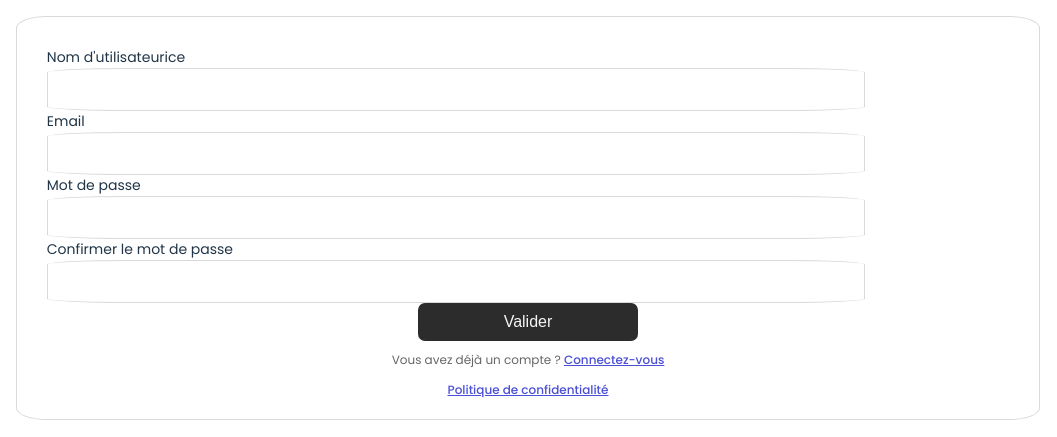
SignUpForm Validation › should display error message when no username is filled
Type "test@example.com" into the field labelled "Email". click: (456, 154)
box: left=47, top=132, right=865, bottom=175
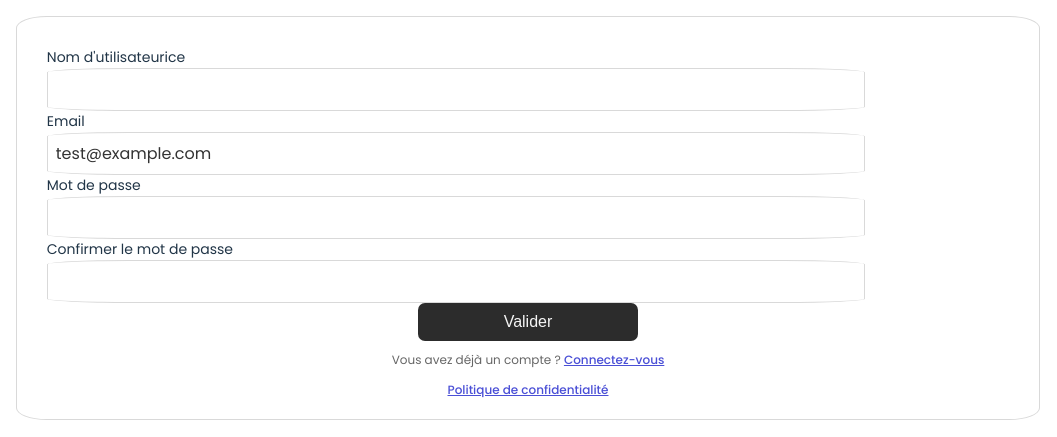
Type "password123" into the password field labelled "Mot de passe". click: (456, 218)
box: left=47, top=196, right=865, bottom=239
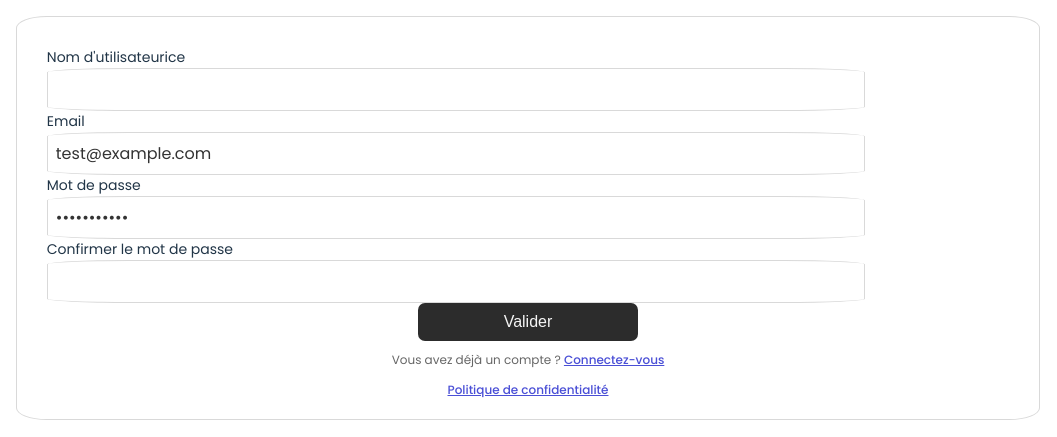
Type "password123" into the password field labelled "Confirmer le mot de passe". click: (456, 282)
box: left=47, top=260, right=865, bottom=303
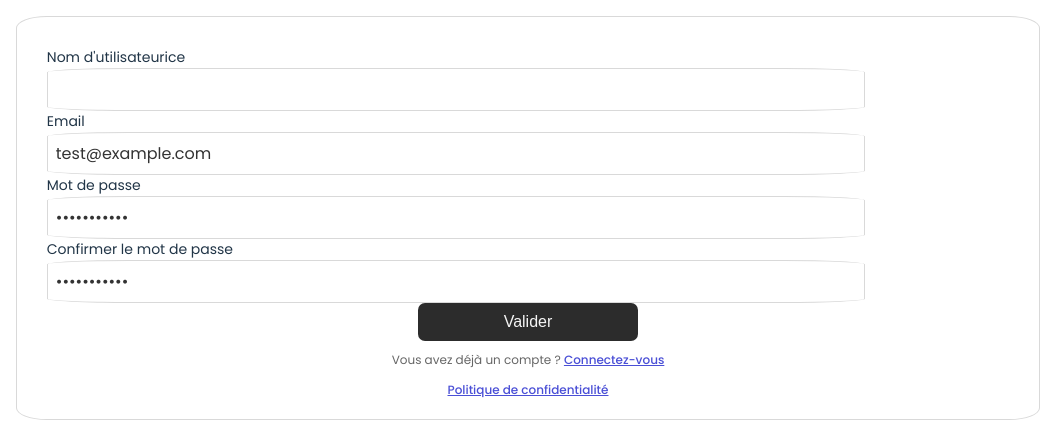
Click the button "Valider". click: click(528, 322)
box: left=418, top=303, right=638, bottom=341
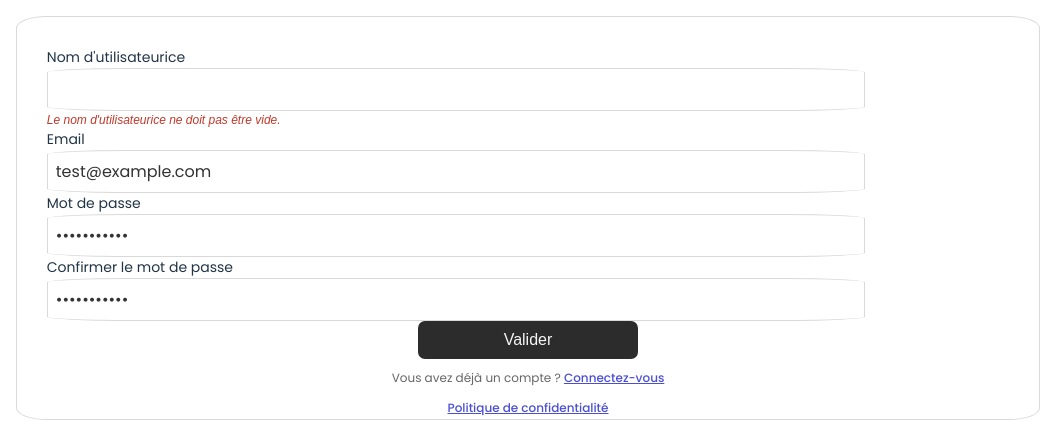
Check: the text "Le nom d'utilisateurice ne doit pas être vide." is shown, box left=47, top=113, right=281, bottom=127
